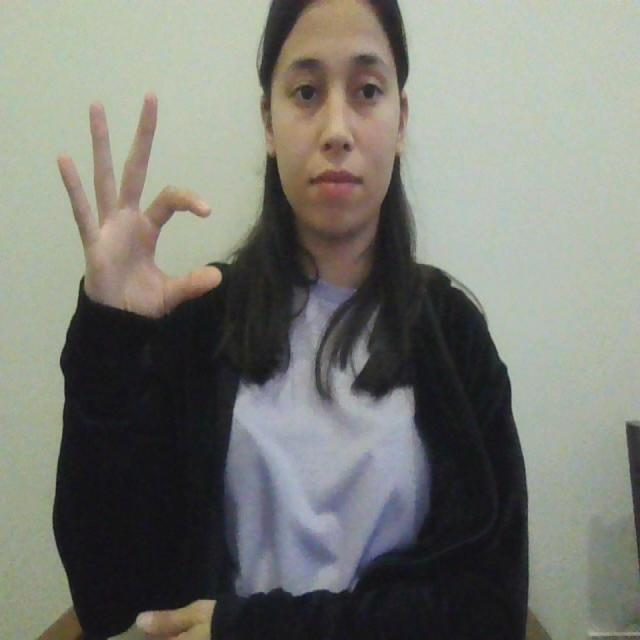Tuvalet: (48, 80, 229, 332)
